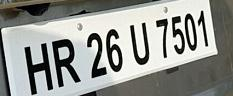0: (182, 12, 198, 51)
1: (196, 9, 210, 46)
2: (83, 31, 108, 78)
5: (170, 14, 184, 54)
6: (104, 27, 125, 72)
7: (153, 17, 170, 58)
H: (21, 41, 54, 94)
R: (50, 37, 81, 88)
U: (128, 21, 150, 66)
